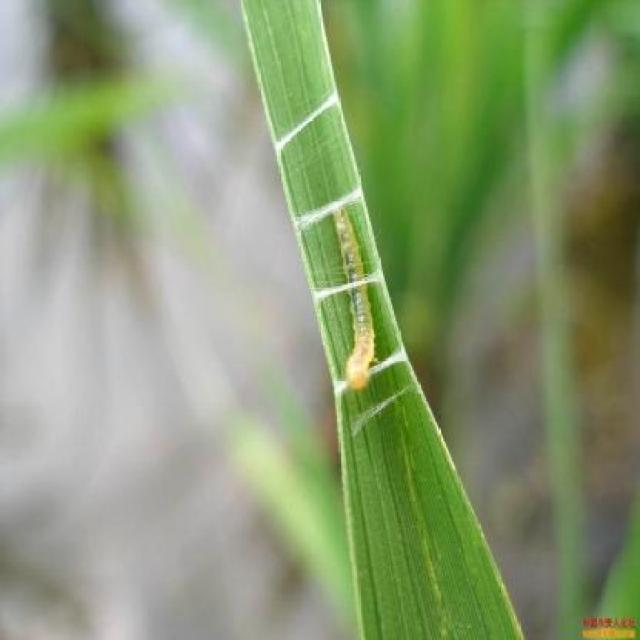leaf-folder: (317, 191, 383, 403)
